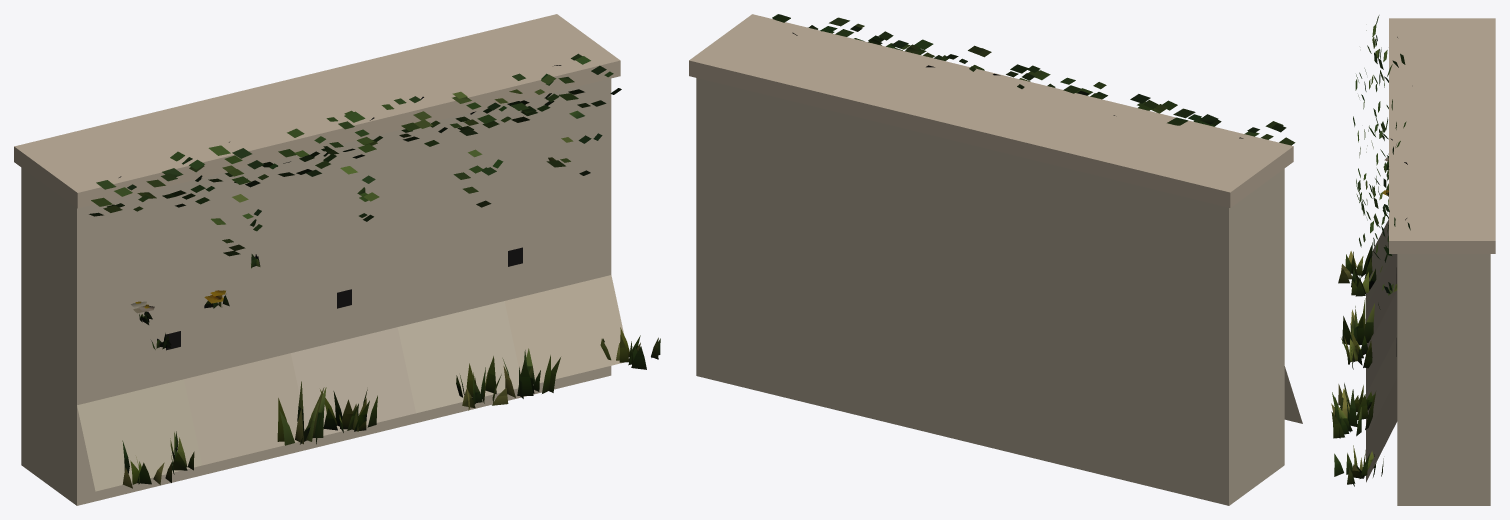
Rendered from muro_terraza.glb.
3 renders of one model, left to right at view 1: azimuth 30°, elevation 25°; view 2: azimuth 150°, elevation 25°; view 3: azimuth 270°, elevation 25°, orthographic. The views are drawn at different scales.
Parts seen in each view (by area): view 1: muro_terraza_fijo, muro_terraza_vegetacion; view 2: muro_terraza_fijo, muro_terraza_vegetacion; view 3: muro_terraza_fijo, muro_terraza_vegetacion.
Boxes of the visible parts, bbox=[...] form: muro_terraza_fijo: bbox=[14, 14, 629, 505]; muro_terraza_vegetacion: bbox=[89, 53, 660, 488]; muro_terraza_fijo: bbox=[689, 14, 1302, 505]; muro_terraza_vegetacion: bbox=[772, 14, 1295, 145]; muro_terraza_fijo: bbox=[1366, 18, 1495, 505]; muro_terraza_vegetacion: bbox=[1331, 15, 1410, 486].
Size of the model in its own units: 5.26 by 2.97 by 1.59.
